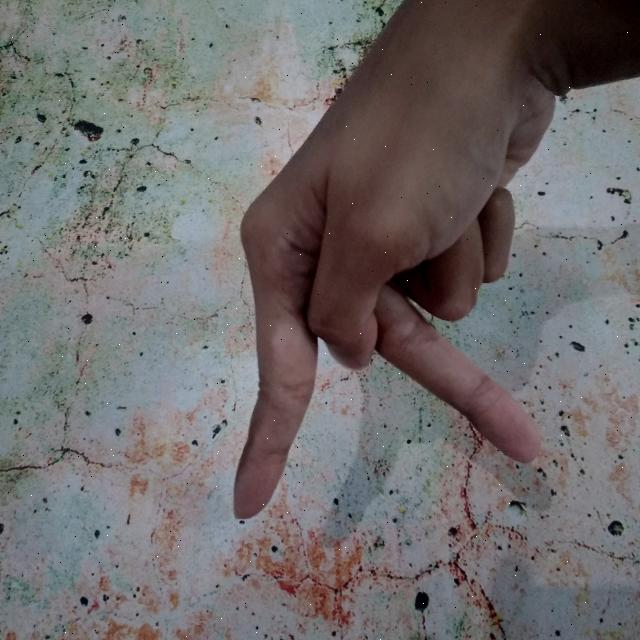P: (227, 0, 640, 527)
